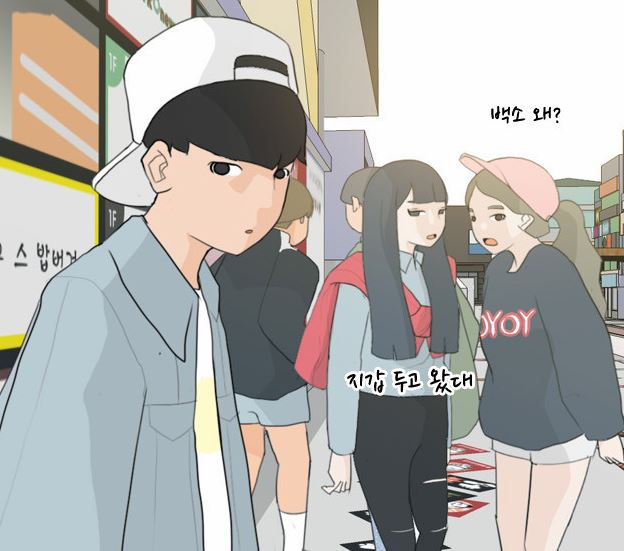hat: (460, 151, 558, 216)
